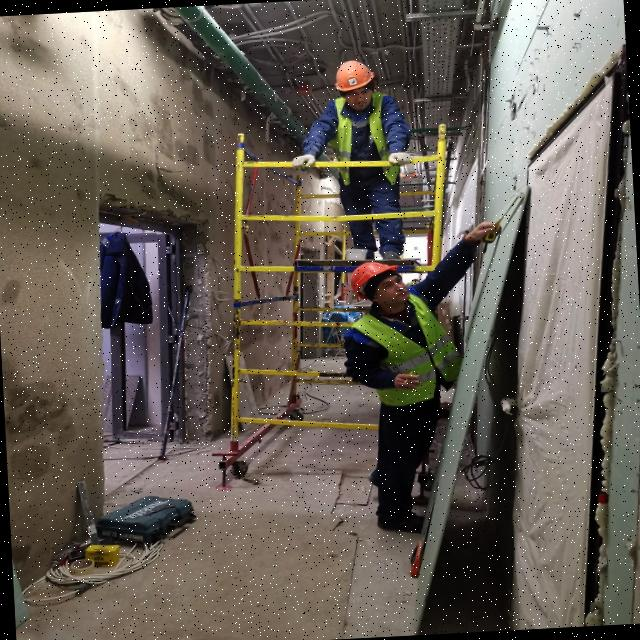Helmet: (354, 262, 402, 299), (334, 61, 376, 94)
Jacket: (366, 300, 451, 404), (334, 95, 398, 181)
